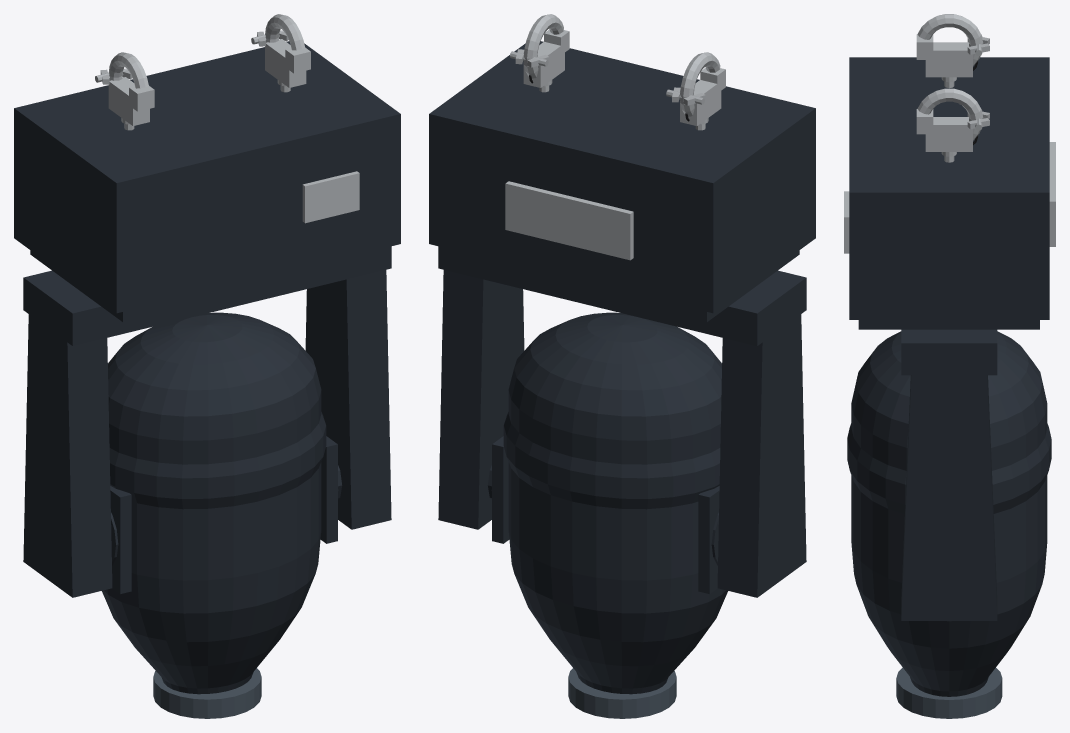
Rendered from moving-head-profile-large.glb.
3 renders of one model, left to right at view 1: azimuth 30°, elevation 25°; view 2: azimuth 150°, elevation 25°; view 3: azimuth 270°, elevation 25°, orthographic. The views are drawn at different scales.
Parts seen in each view (by area): view 1: moving-base, head-body, yoke-left, yoke-right, yoke-crossbar, truss-coupler, head-cheeks, lens-ring, base-display; view 2: moving-base, head-body, yoke-left, yoke-right, yoke-crossbar, base-connectors, truss-coupler, head-cheeks, lens-ring, truss-coupler-bolt; view 3: moving-base, head-body, yoke-right, truss-coupler, yoke-crossbar, lens-ring, base-connectors, truss-coupler-bolt, base-display.
Part boxes in pixels (x1=…): moving-base: x1=14, y1=41, x2=400, y2=322; head-body: x1=102, y1=312, x2=326, y2=694; yoke-left: x1=23, y1=314, x2=112, y2=597; yoke-right: x1=305, y1=270, x2=391, y2=529; yoke-crossbar: x1=23, y1=246, x2=391, y2=345; truss-coupler: x1=108, y1=14, x2=310, y2=130; head-cheeks: x1=110, y1=436, x2=338, y2=594; lens-ring: x1=153, y1=668, x2=261, y2=718; base-display: x1=302, y1=171, x2=359, y2=223; moving-base: x1=429, y1=41, x2=815, y2=322; head-body: x1=503, y1=312, x2=727, y2=694; yoke-left: x1=717, y1=314, x2=806, y2=597; yoke-right: x1=438, y1=270, x2=524, y2=529; yoke-crossbar: x1=438, y1=246, x2=806, y2=345; base-connectors: x1=505, y1=181, x2=633, y2=260; truss-coupler: x1=523, y1=14, x2=725, y2=130; head-cheeks: x1=491, y1=436, x2=719, y2=594; lens-ring: x1=568, y1=668, x2=676, y2=718; truss-coupler-bolt: x1=510, y1=49, x2=705, y2=105; moving-base: x1=849, y1=57, x2=1049, y2=329; head-body: x1=847, y1=331, x2=1051, y2=696; yoke-right: x1=901, y1=375, x2=997, y2=620; truss-coupler: x1=916, y1=14, x2=983, y2=162; yoke-crossbar: x1=901, y1=329, x2=997, y2=375; lens-ring: x1=896, y1=667, x2=1002, y2=718; base-connectors: x1=1049, y1=142, x2=1055, y2=246; truss-coupler-bolt: x1=967, y1=34, x2=989, y2=130; base-display: x1=844, y1=191, x2=849, y2=253.
Size of the model in its own units: 0.561 by 1.11 by 0.3305.
